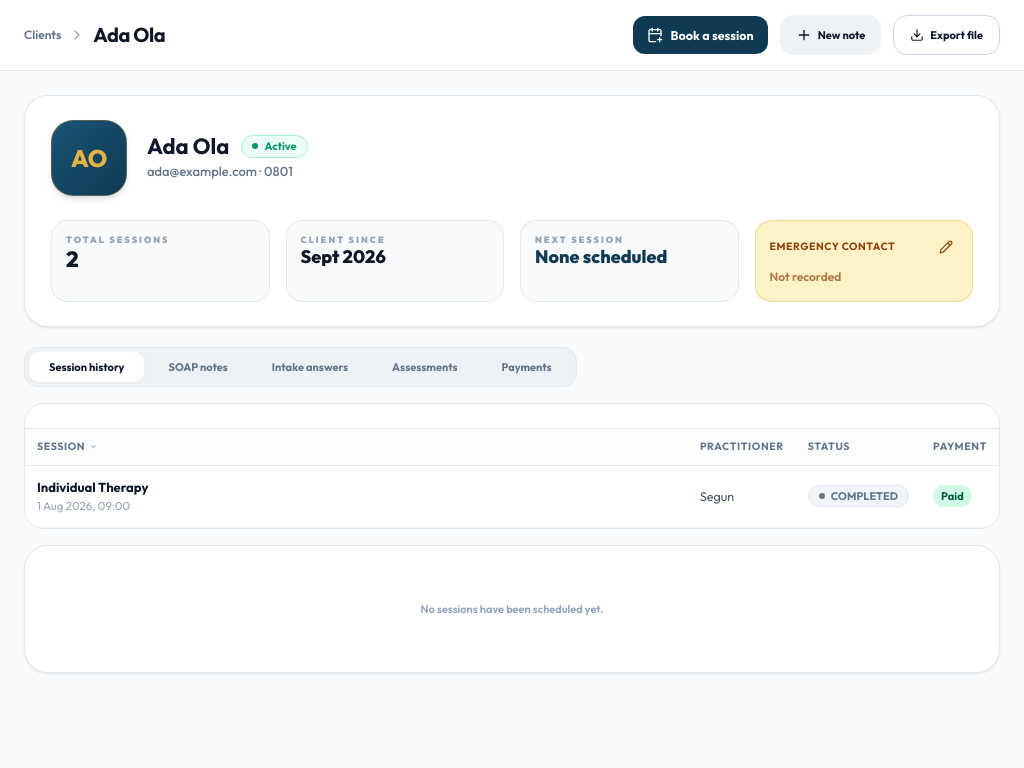
Test case: client history › shows the payments tab with totals
Expected: the heading "Ada Ola" next to "Clients" is shown, [93,20,165,50]
What coordinates should you click on to do the following:
click the button "Payments"
I would click on:
 (527, 367)
Its box is [482,352,572,382].
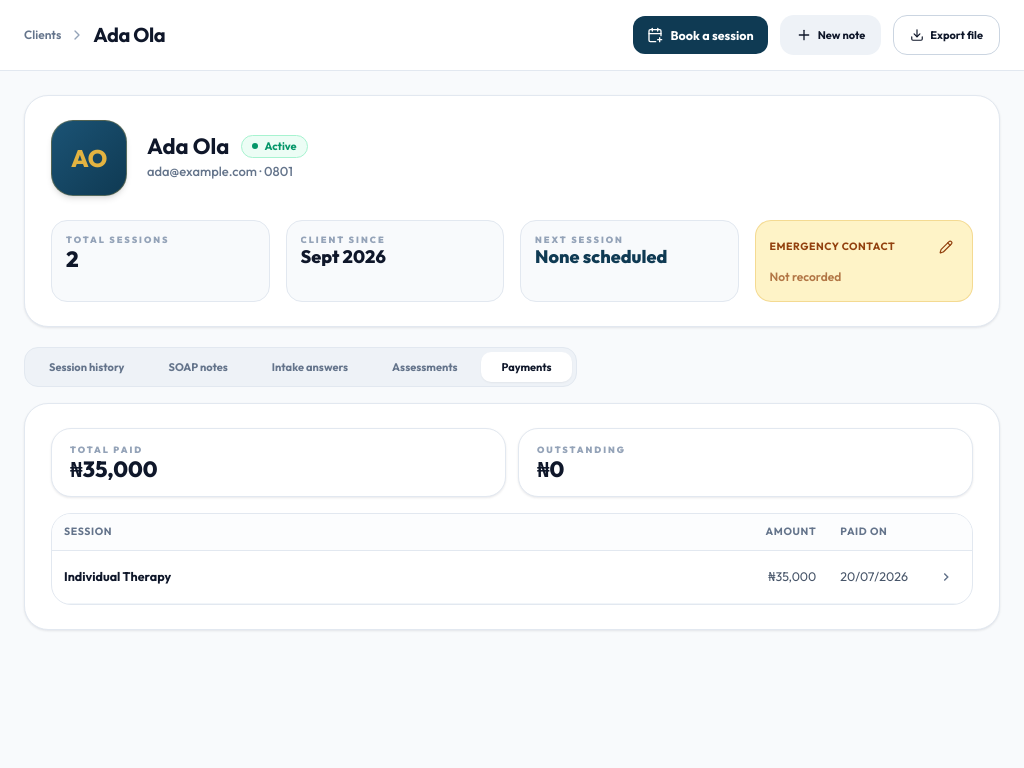
Result: the text "₦35,000" is shown at [70,458,158,480]
Result: the text "OUTSTANDING" is shown at [537,444,626,455]
